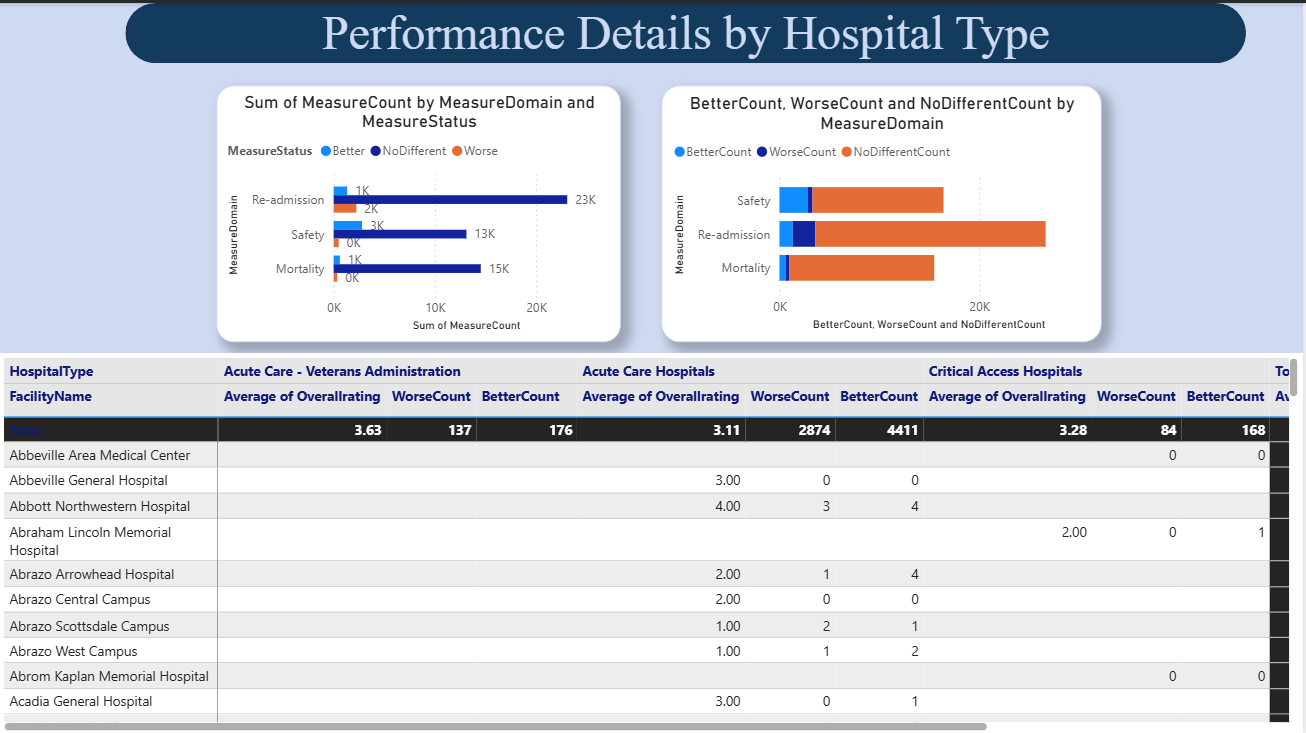

The page's visual inventory and layout, read from the dashboard file:
{"tool":"powerbi","page":{"name":"Performance Details","canvas":[1280,720],"ordinal":3},"visuals":[{"type":"clusteredBarChart","fields":{"Category":["FactPerformance.MeasureDomain"],"Y":["Sum(FactPerformance.MeasureCount)"],"Series":["FactPerformance.MeasureStatus"]},"box":[213.5,80.8,396.9,252.1],"z":0},{"type":"barChart","fields":{"Category":["FactPerformance.MeasureDomain"],"Y":["FactPerformance.BetterCount","FactPerformance.WorseCount","FactPerformance.NoDifferentCount"]},"box":[650.3,80.8,431.9,252.1],"z":1000},{"type":"pivotTable","fields":{"Rows":["Hospital.FacilityName"],"Columns":["Dim_HospitalType.HospitalType"],"Values":["Avg(Hospital.Overallrating)","FactPerformance.WorseCount","FactPerformance.BetterCount"]},"box":[0,343.8,1280,376.4],"z":2000},{"type":"shape","box":[124.3,0,1100.3,59.1],"z":3000}]}

Visuals, with their boxes in screenshot pixels (x1, y1, x2, y2), scaled from the page's 1280x720 canvas onto the 1306x733 screenshot:
clusteredBarChart - FactPerformance.MeasureDomain x Sum(FactPerformance.MeasureCount): {"x1": 218, "y1": 82, "x2": 623, "y2": 339}
barChart - FactPerformance.MeasureDomain x FactPerformance.BetterCount: {"x1": 664, "y1": 82, "x2": 1104, "y2": 339}
pivotTable - Hospital.FacilityName x Dim_HospitalType.HospitalType: {"x1": 0, "y1": 350, "x2": 1305, "y2": 732}
shape: {"x1": 127, "y1": 0, "x2": 1249, "y2": 60}
